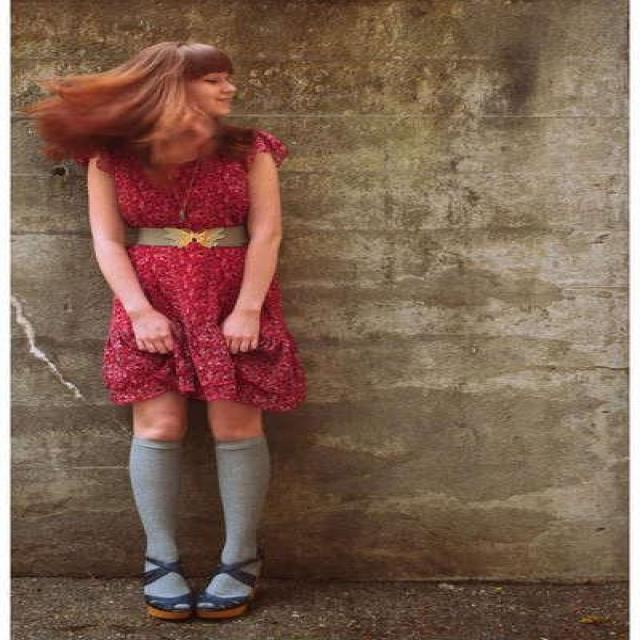dress: (96, 132, 306, 416)
shoe: (128, 552, 261, 627)
